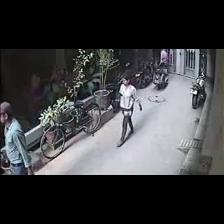person: (0, 103, 33, 174), (117, 74, 142, 146)
